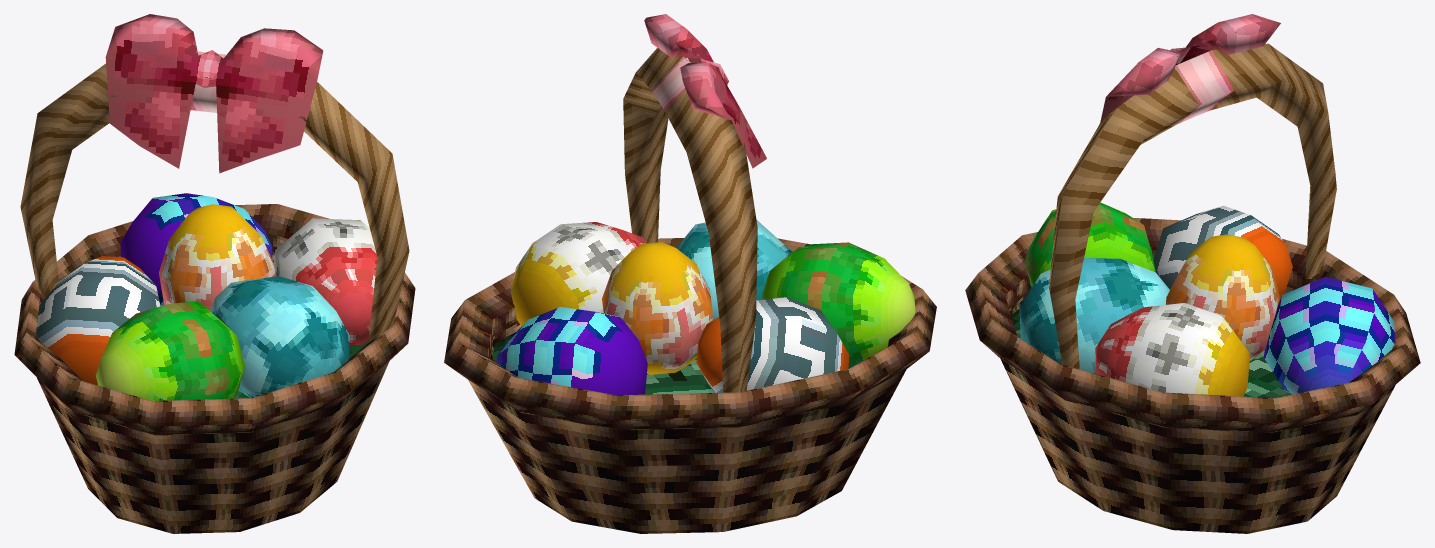
File: int_oth_eggbasket.dae
3 renders of one model, left to right at view 1: azimuth 30°, elevation 25°; view 2: azimuth 150°, elevation 25°; view 3: azimuth 270°, elevation 25°, orthographic.
Parts seen in each view (by area): view 1: int_oth_eggbasket; view 2: int_oth_eggbasket; view 3: int_oth_eggbasket.
Part boxes in pixels (left/top/right/bottom): int_oth_eggbasket: left=14, top=14, right=415, bottom=533; int_oth_eggbasket: left=444, top=14, right=936, bottom=533; int_oth_eggbasket: left=965, top=14, right=1420, bottom=533.
Bounding box in the file's own units: 25.63 × 27.08 × 25.63.
Materials: 3 (3 with a texture image).
